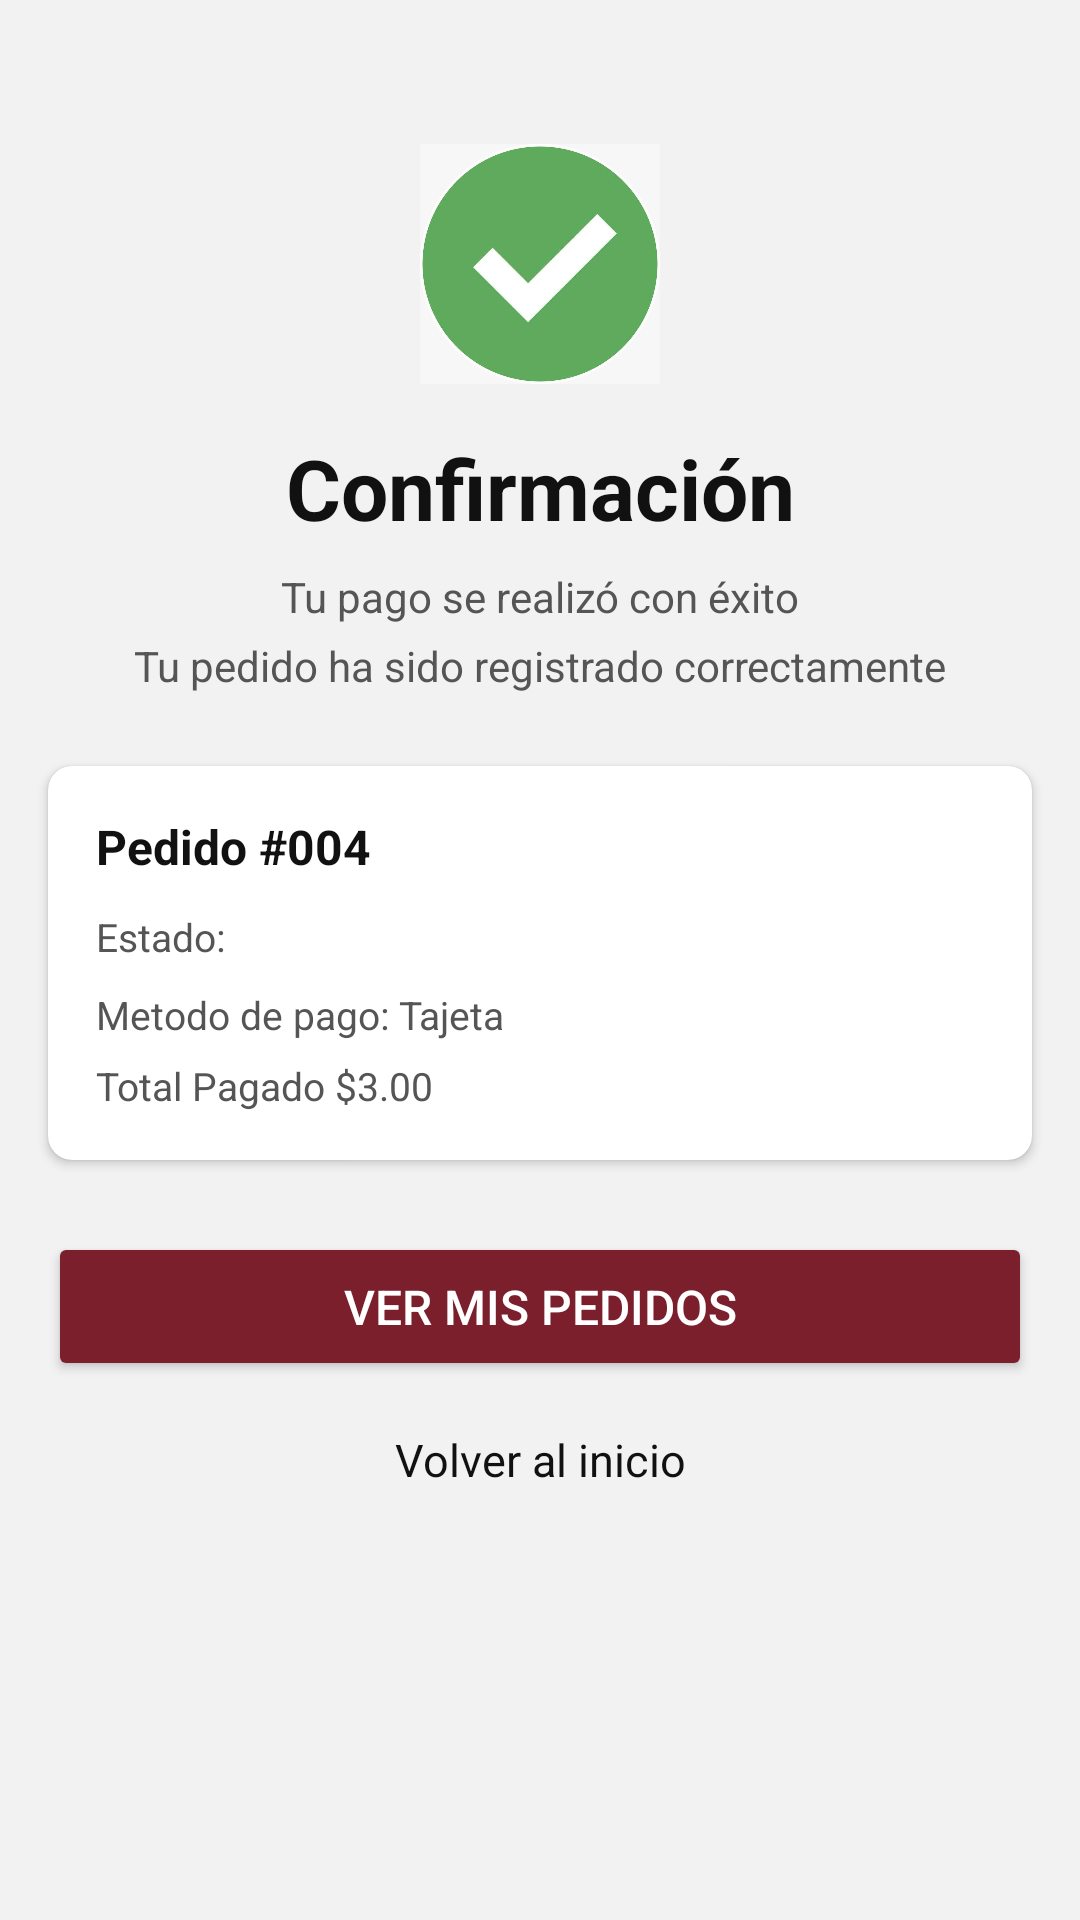

Locate icon controls on the screen. Image size 1080 x 1920, boxes as [left=x1, top=y1, right=x2, bottom=y2].
Confirmado: [left=422, top=146, right=658, bottom=382]
